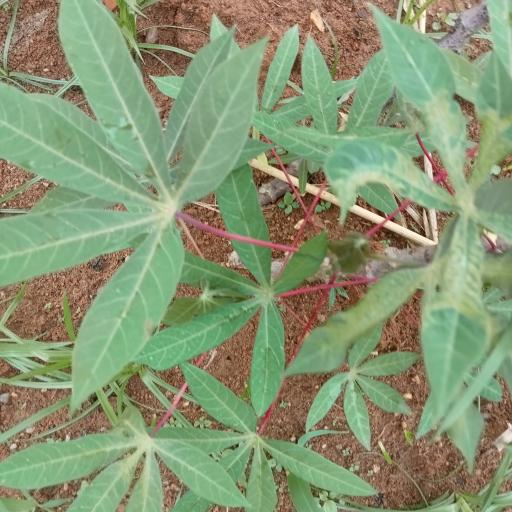Cassava_Mosaic: (6, 6, 254, 408), (338, 21, 512, 429), (0, 419, 255, 512)
